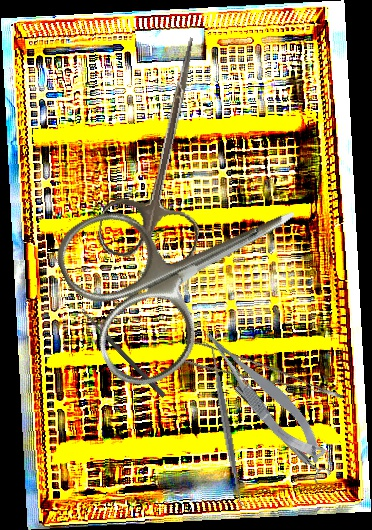Fixation Ring: (230, 379, 332, 487)
Iris Scissors: (45, 135, 334, 399), (94, 27, 236, 270)
Micro Scissor: (195, 312, 334, 476)
Spatula Surgical: (201, 338, 250, 511)
Surgical Spoon: (79, 307, 167, 399)
Tissue Forceps: (177, 330, 344, 425)
